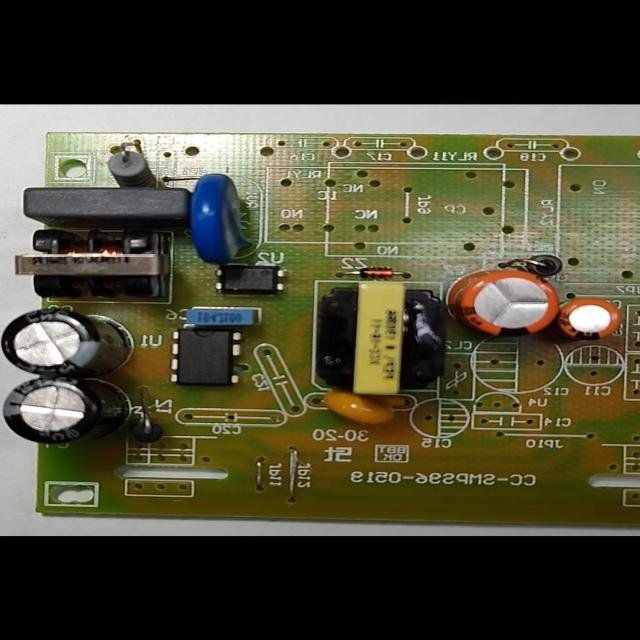Cap1: (442, 262, 563, 339)
Cap2: (552, 295, 627, 345)
Cap3: (0, 305, 134, 379)
Cap4: (0, 374, 147, 448)
MOSFET: (169, 320, 247, 390)
Mov: (183, 166, 261, 271)
Resistor: (96, 138, 168, 186)
Transformer: (309, 275, 451, 396), (11, 222, 169, 302)
